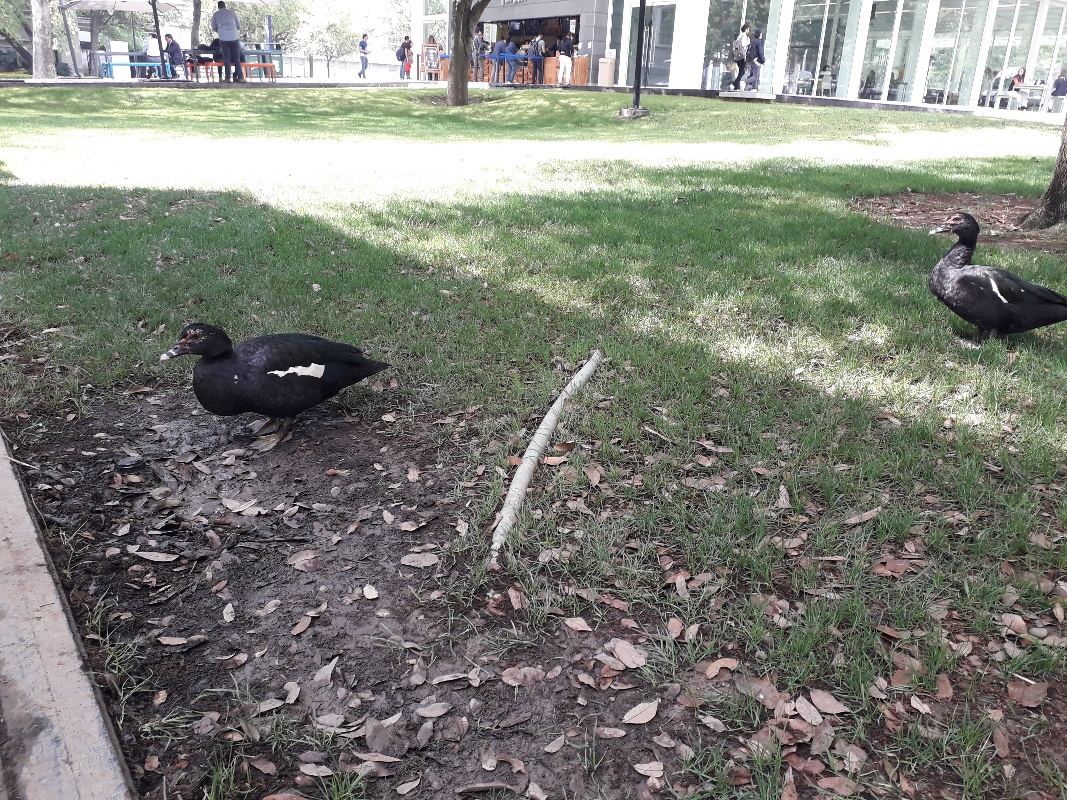pato: (155, 316, 380, 426), (933, 212, 1064, 354)
